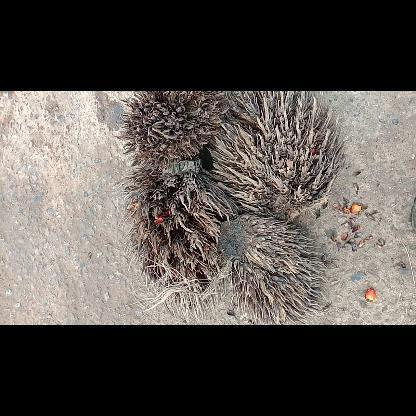Janjang kosong: (119, 160, 239, 324), (206, 90, 342, 220), (218, 214, 326, 324), (116, 91, 228, 169)
